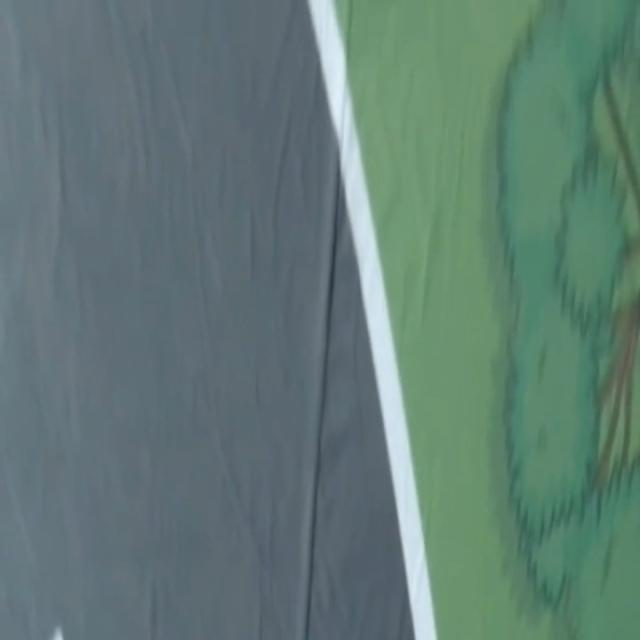center: (52, 627, 63, 639)
right: (308, 0, 436, 639)
